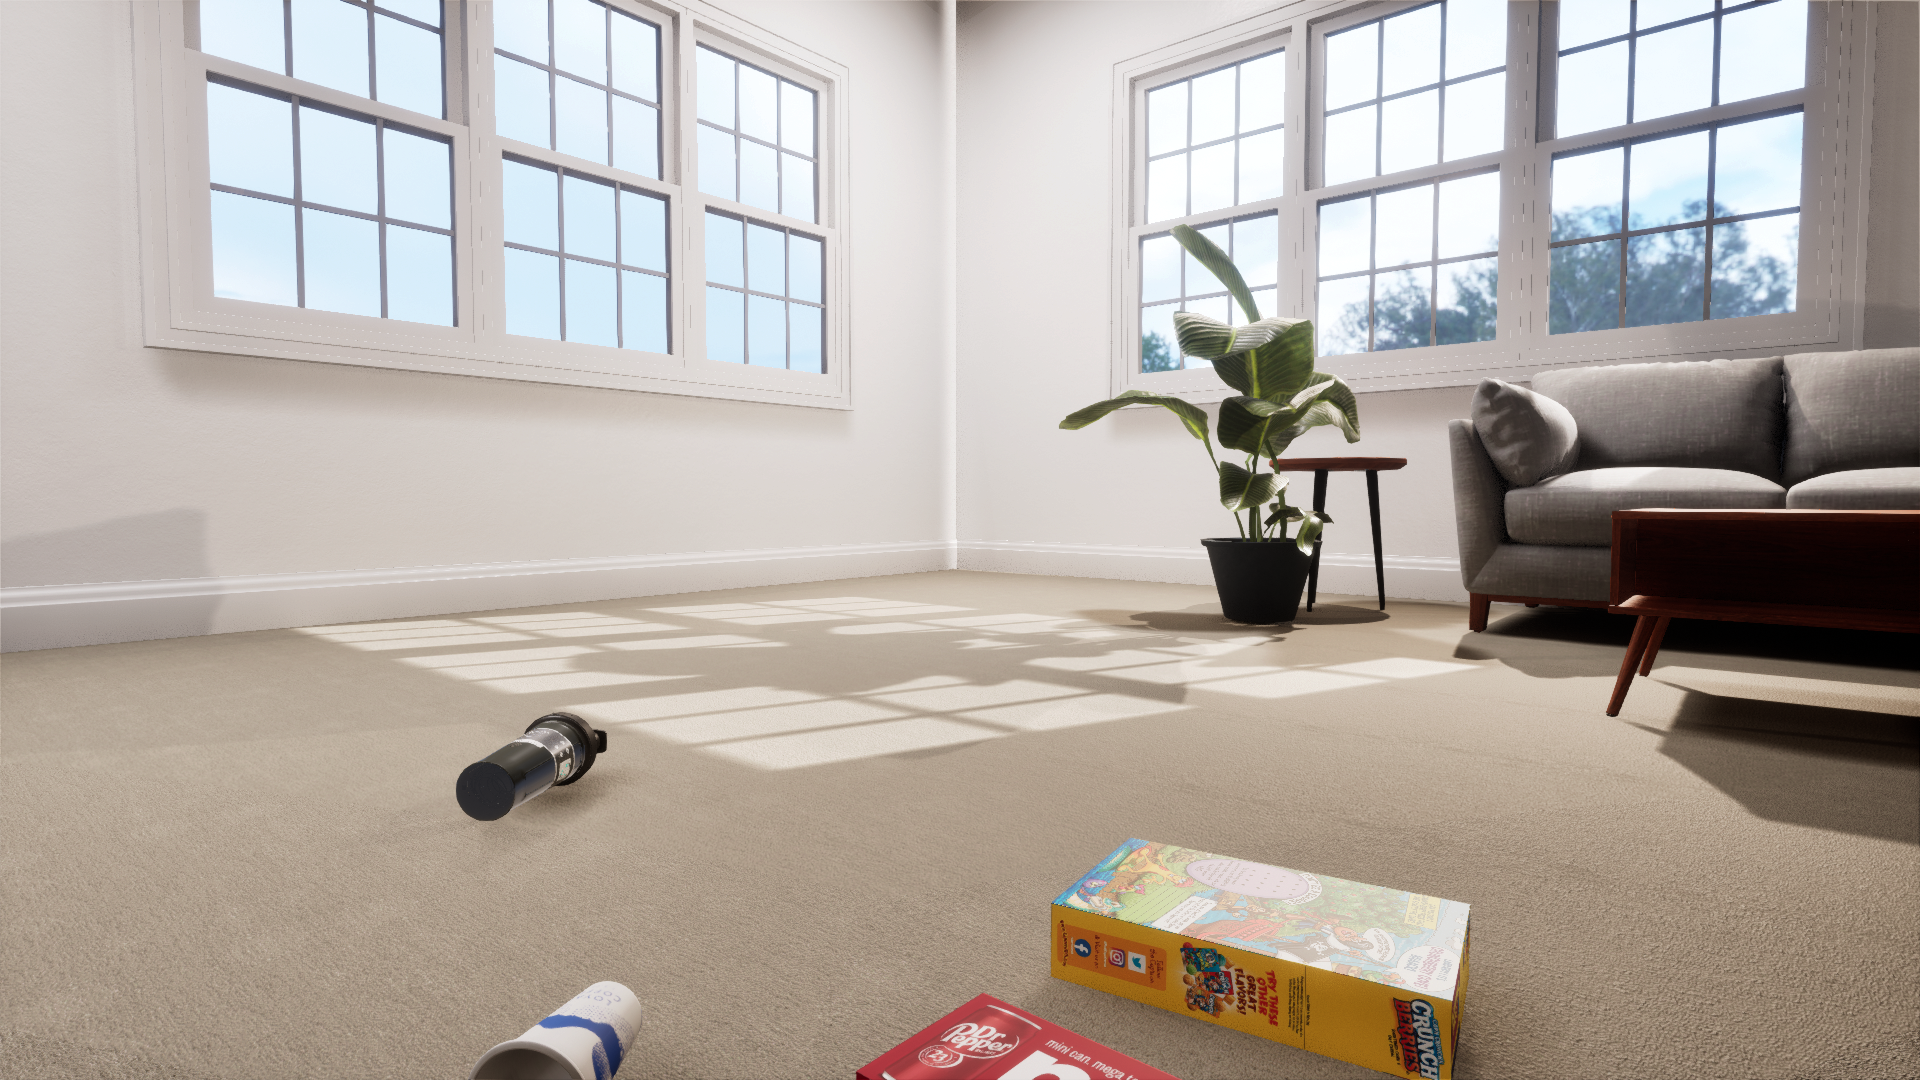cheerios: (1208, 695, 1644, 956)
soup: (1116, 658, 1228, 746)
